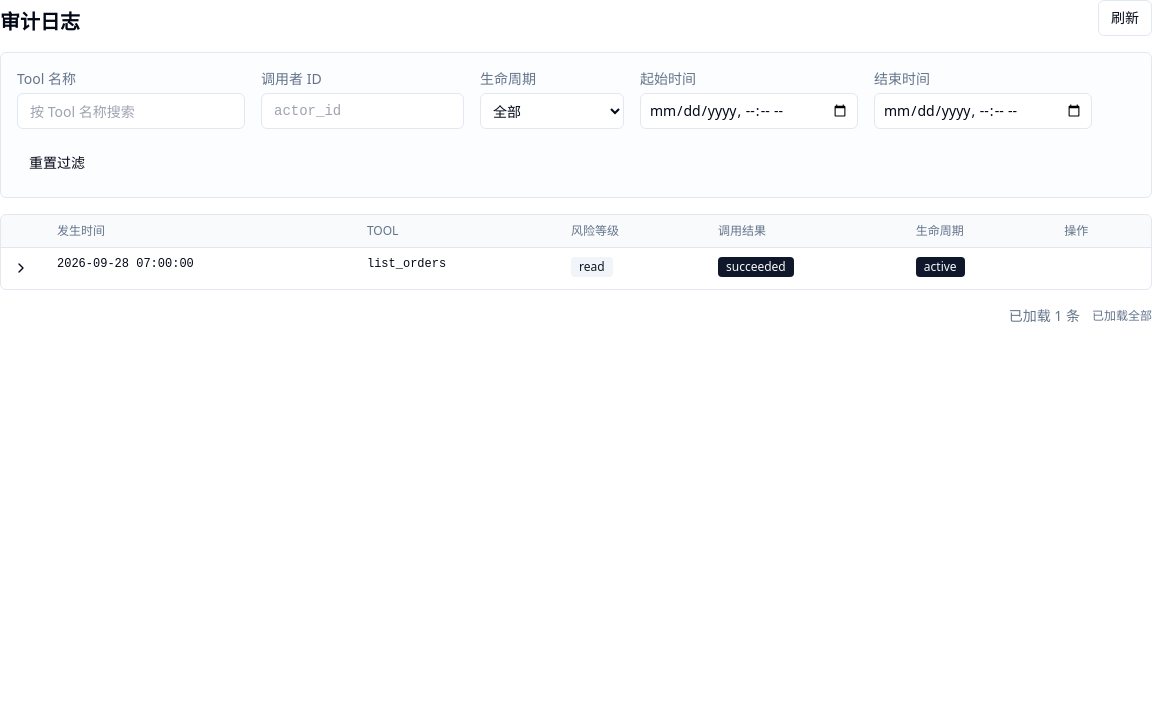
Scenario: AuditLogsTable › expands a row to show the detail panel on click
This screenshot has width=1152, height=715.
Step 1. Click the button with test id "audit-log-toggle-exp-1" → (21, 268), box [9, 256, 33, 280]
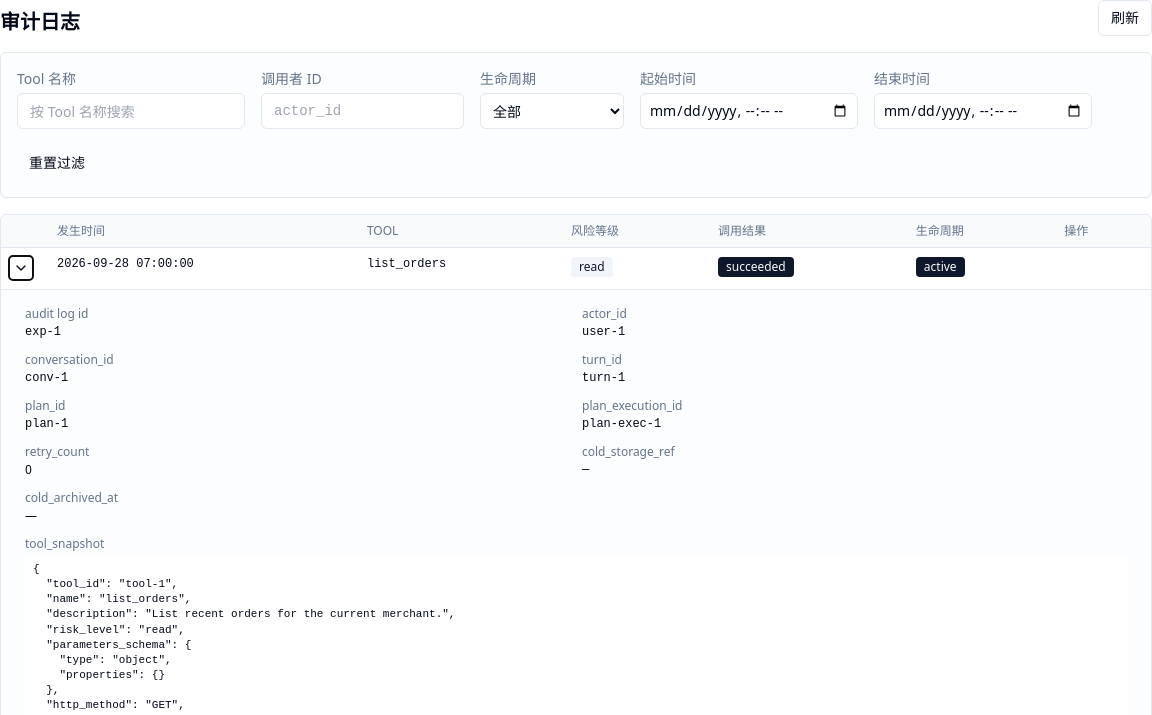
Check: the button named "收起详情" is shown, box [9, 256, 33, 280]
